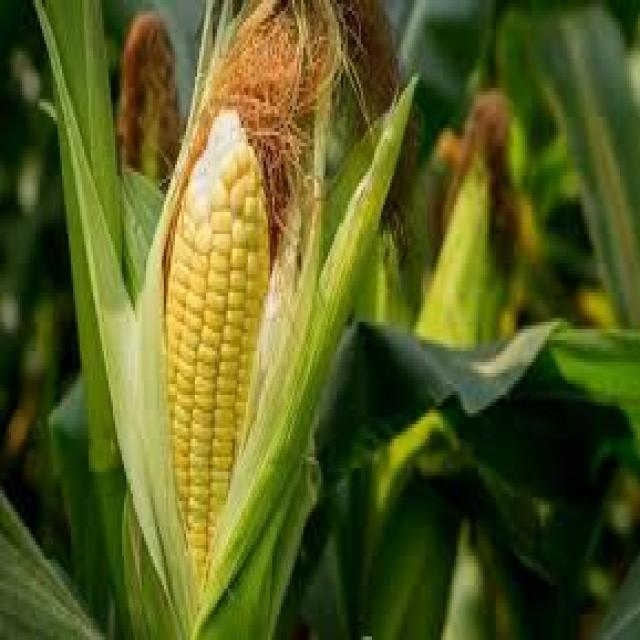corn: (146, 80, 278, 632)
